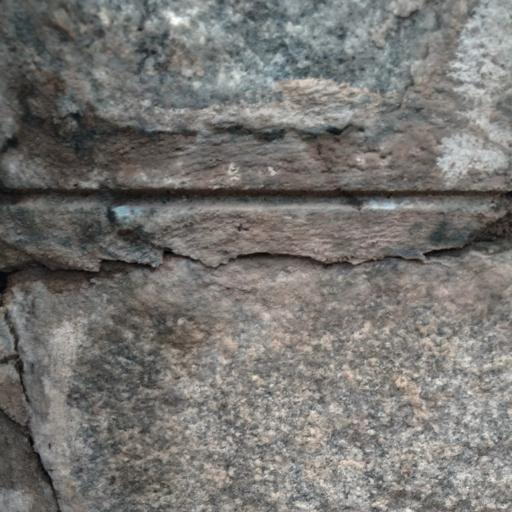minor_crack: (0, 211, 512, 292), (0, 300, 75, 512)
